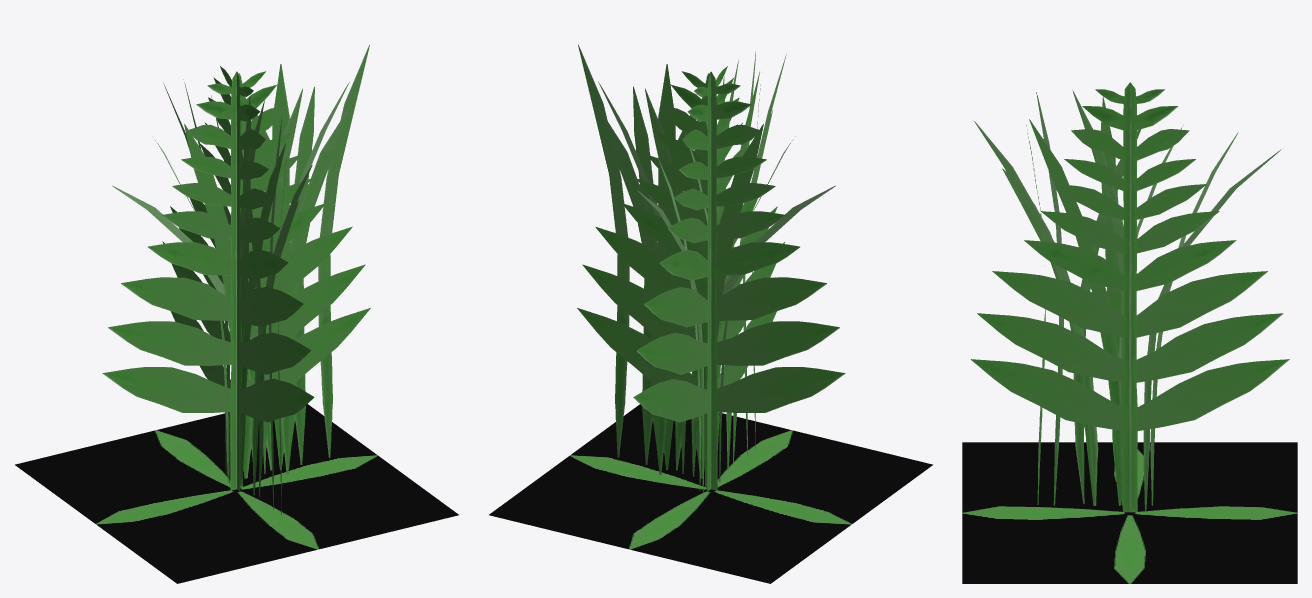
File: Grass.fbx
3 renders of one model, left to right at view 1: azimuth 30°, elevation 25°; view 2: azimuth 150°, elevation 25°; view 3: azimuth 270°, elevation 25°, orthographic. The views are drawn at different scales.
Parts seen in each view (by area): view 1: SM_Fern_Mobile, SM_Grass2_Mobile, SM_Grass1_Mobile; view 2: SM_Fern_Mobile, SM_Grass2_Mobile, SM_Grass1_Mobile; view 3: SM_Fern_Mobile, SM_Grass2_Mobile, SM_Grass1_Mobile.
Boxes of the visible parts, bbox=[...] form: SM_Fern_Mobile: bbox=[102, 66, 370, 490]; SM_Grass2_Mobile: bbox=[15, 404, 458, 583]; SM_Grass1_Mobile: bbox=[112, 44, 369, 514]; SM_Fern_Mobile: bbox=[577, 66, 845, 491]; SM_Grass2_Mobile: bbox=[489, 404, 932, 583]; SM_Grass1_Mobile: bbox=[578, 44, 835, 494]; SM_Fern_Mobile: bbox=[971, 82, 1289, 512]; SM_Grass2_Mobile: bbox=[962, 442, 1297, 583]; SM_Grass1_Mobile: bbox=[974, 89, 1281, 512].
Bounding box in the file's own units: 40.02 × 56.77 × 40.02.
Materials: 4 (4 with a texture image).
